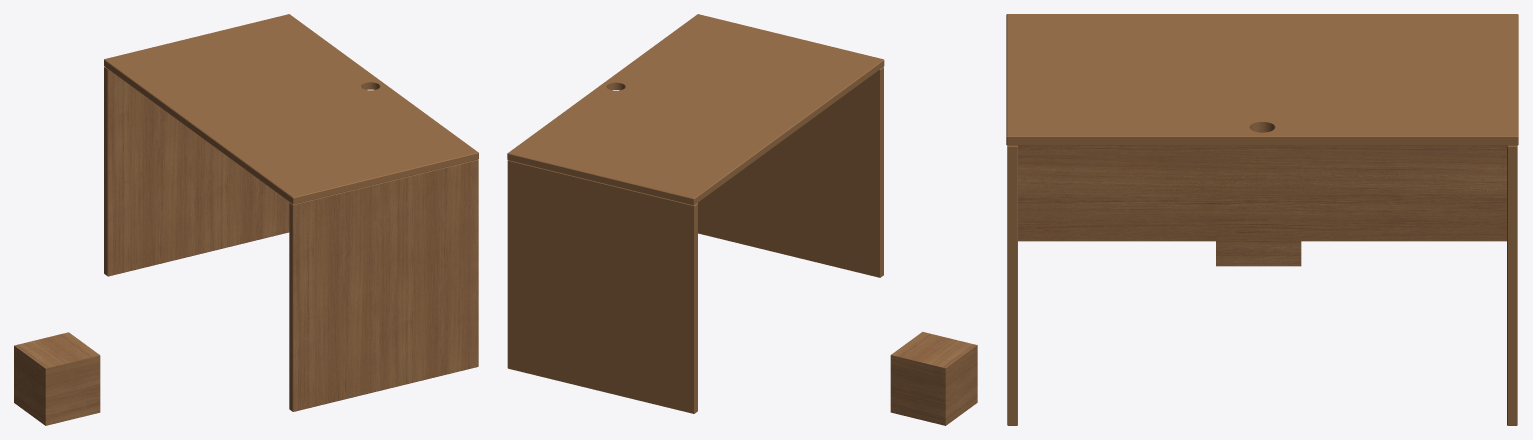
The model's file is Desk_dark01.gltf.
The picture shows the model from 3 angles, left to right: view 1: azimuth 30°, elevation 25°; view 2: azimuth 150°, elevation 25°; view 3: azimuth 270°, elevation 25°; orthographic projection. The views are drawn at different scales.
Visible parts, largest first — view 1: Desk, Cube; view 2: Desk, Cube; view 3: Desk, Cube.
Part boxes in pixels (x1,y1,x2,y2): Desk: (104,14,478,411); Cube: (14,332,100,425); Desk: (507,14,884,413); Cube: (890,331,977,425); Desk: (1006,14,1518,425); Cube: (1216,241,1301,266).
Size of the model in its own units: 13.01 by 8.5 by 12.
Materials: 1 (1 with a texture image).
